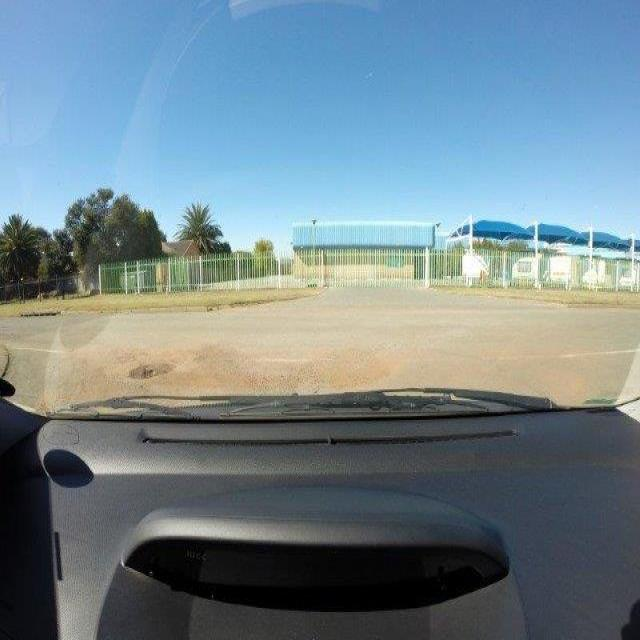lubang: (125, 353, 182, 383)
